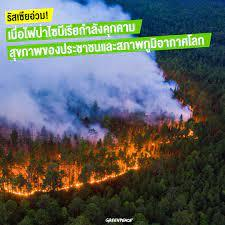fire: (0, 0, 210, 210), (0, 74, 199, 198)
smoke: (5, 67, 101, 145), (106, 60, 172, 102), (105, 85, 157, 124)
